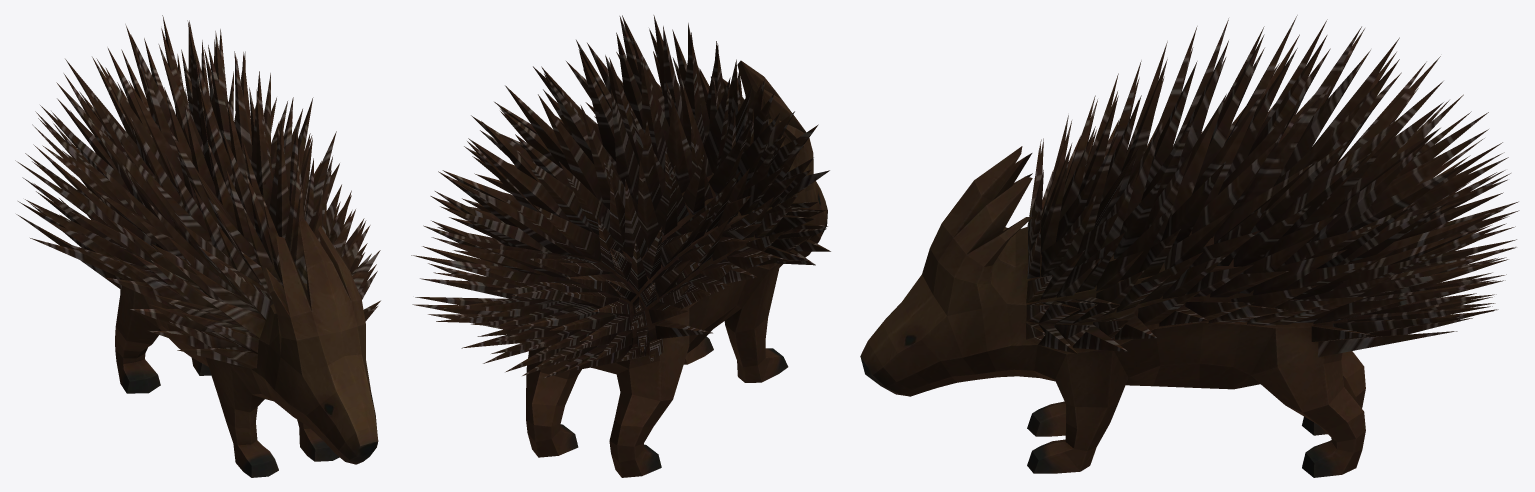
The model's file is prop_pz_porcupine.glb.
3 views of the same model, side by side, from view 1: azimuth 30°, elevation 25°; view 2: azimuth 150°, elevation 25°; view 3: azimuth 270°, elevation 25° (orthographic). The views are drawn at different scales.
Visible parts, largest first — view 1: Porcupine_mesh; view 2: Porcupine_mesh; view 3: Porcupine_mesh.
Boxes of the visible parts, x1,y1,x2,y2 form: Porcupine_mesh: (15,15,380,477); Porcupine_mesh: (411,15,830,477); Porcupine_mesh: (860,15,1519,477).
Bounding box in the file's own units: 0.9688 × 1.29 × 1.83.
1 material, 1 textured.
